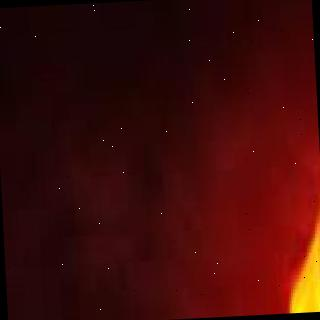fire: (274, 146, 320, 313)
